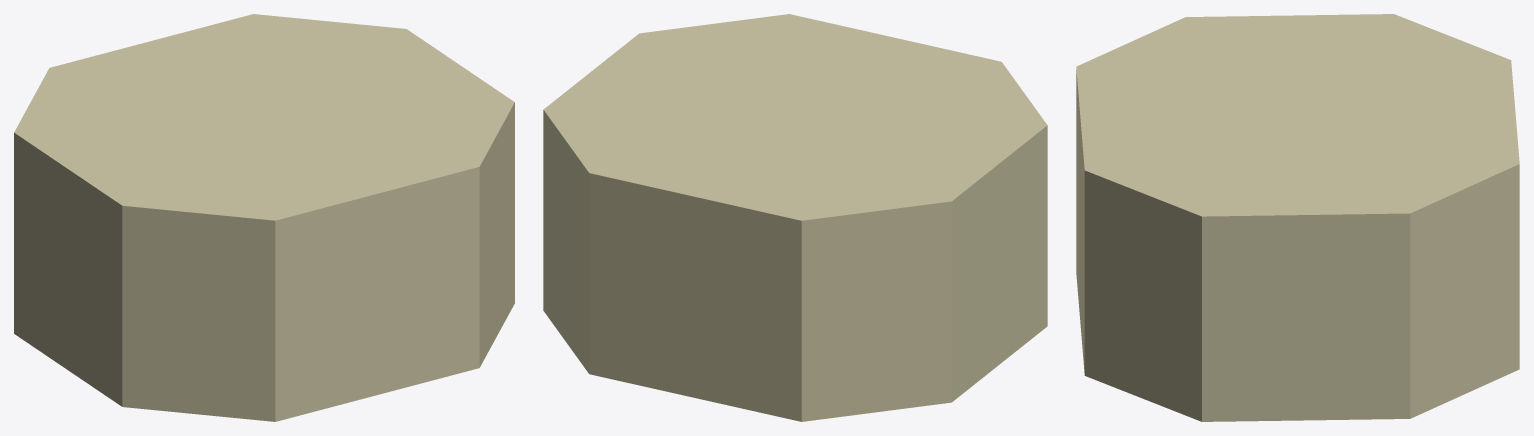
File: SM_WhiteModel_4.FBX
3 views of the same model, side by side, from view 1: azimuth 30°, elevation 25°; view 2: azimuth 150°, elevation 25°; view 3: azimuth 270°, elevation 25° (orthographic). The views are drawn at different scales.
Parts seen in each view (by area): view 1: SM_WhiteModel_4; view 2: SM_WhiteModel_4; view 3: SM_WhiteModel_4.
Part boxes in pixels (<box>): SM_WhiteModel_4: <box>14,14,514,421</box>; SM_WhiteModel_4: <box>543,14,1047,421</box>; SM_WhiteModel_4: <box>1076,14,1519,421</box>.
Bounding box in the file's own units: 2538 × 2348 × 1200.
